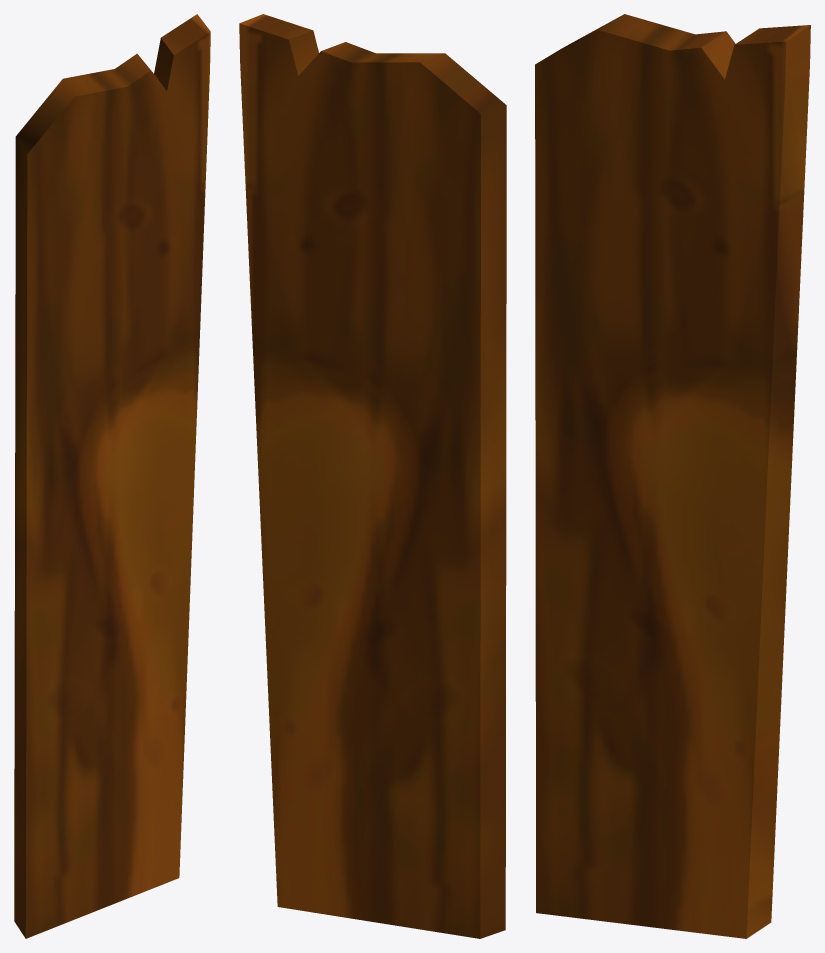
File: Fence.fbx
3 views of the same model, side by side, from view 1: azimuth 30°, elevation 25°; view 2: azimuth 150°, elevation 25°; view 3: azimuth 330°, elevation 25° (orthographic). The views are drawn at different scales.
Visible parts, largest first — view 1: fence.001; view 2: fence.001; view 3: fence.001.
Part boxes in pixels (<box>): fence.001: <box>14,14,210,938</box>; fence.001: <box>239,14,506,938</box>; fence.001: <box>535,14,810,938</box>.
Bounding box in the file's own units: 80.43 × 304 × 27.82.
